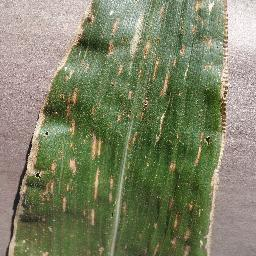Gray_Leaf_Spot: (6, 0, 237, 256)
